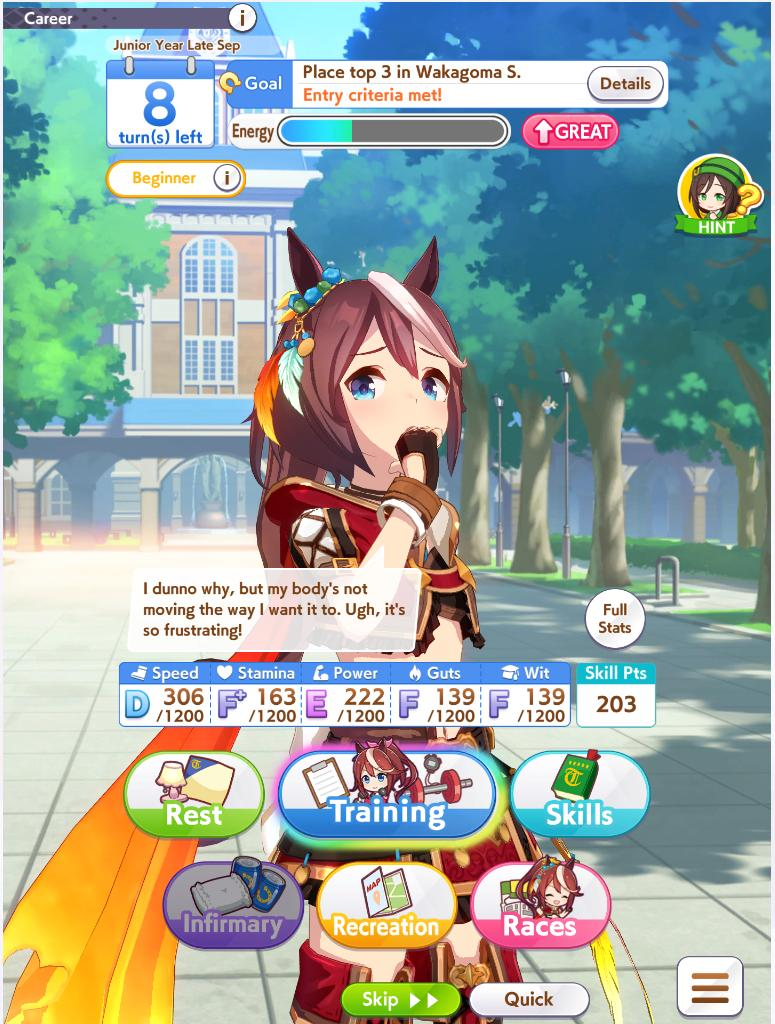Energy: (226, 110, 511, 160)
Great: (520, 110, 628, 154)
Race: (476, 857, 611, 950)
recreation: (317, 862, 456, 951)
rest: (121, 748, 267, 839)
skill: (509, 749, 649, 840)
training: (279, 750, 497, 837)
turns: (98, 48, 219, 151)
